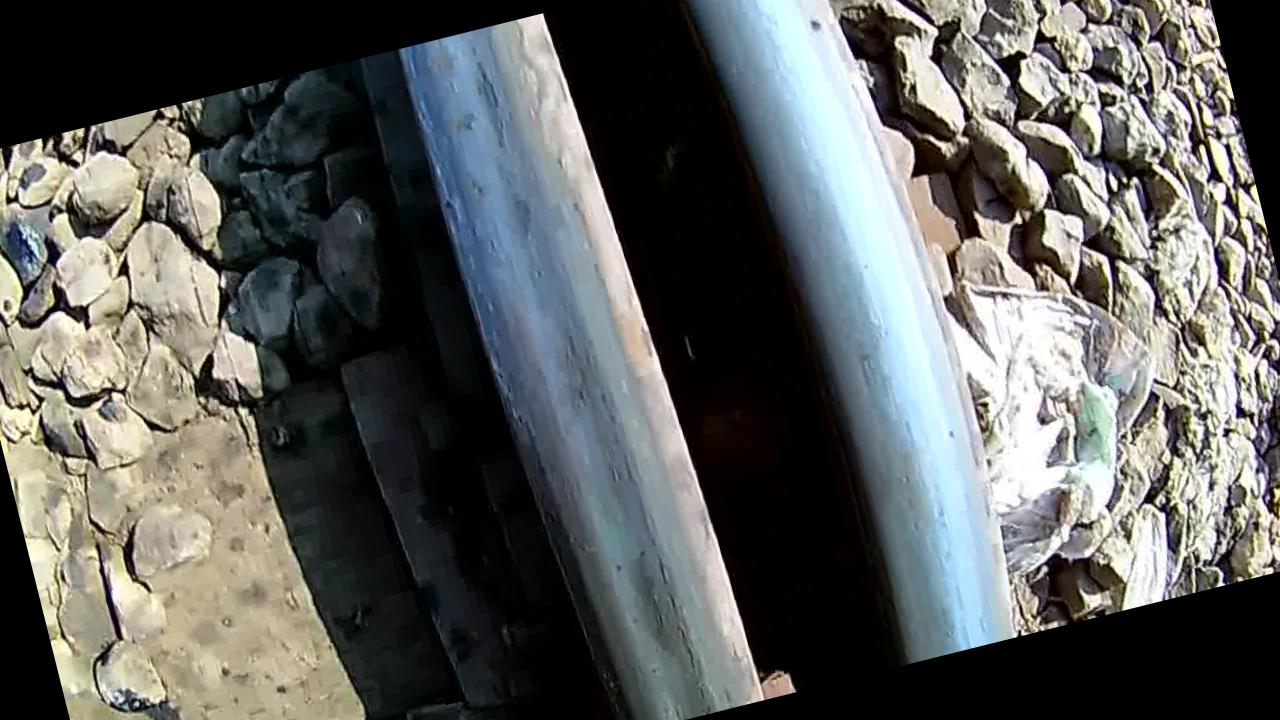crack: (414, 33, 717, 720)
